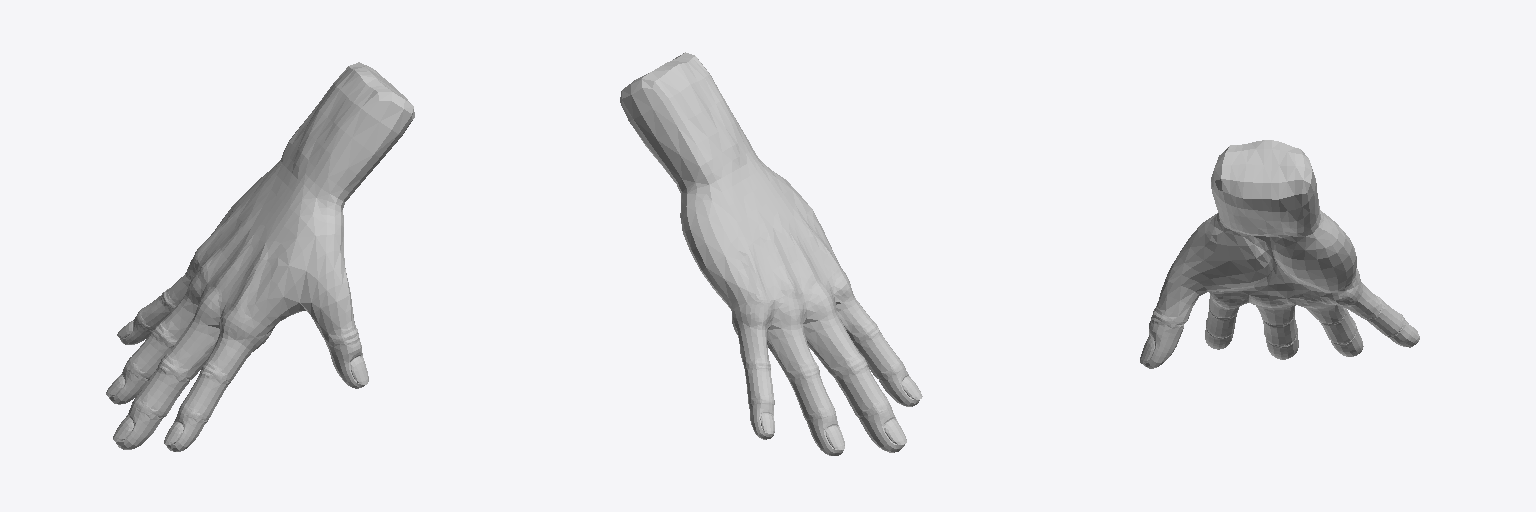
File: hand.obj
The picture shows the model from 3 angles: view 1: azimuth 30°, elevation 25°; view 2: azimuth 150°, elevation 25°; view 3: azimuth 270°, elevation 25°; orthographic projection.
Visible parts, largest first — view 1: ZBrushPolyMesh3D; view 2: ZBrushPolyMesh3D; view 3: ZBrushPolyMesh3D.
Boxes of the visible parts, box(x1,y1,x2,y2) form: ZBrushPolyMesh3D: box(106, 62, 414, 451); ZBrushPolyMesh3D: box(620, 52, 922, 455); ZBrushPolyMesh3D: box(1140, 140, 1419, 368).
Bounding box in the file's own units: 3.86 × 4.29 × 3.34.